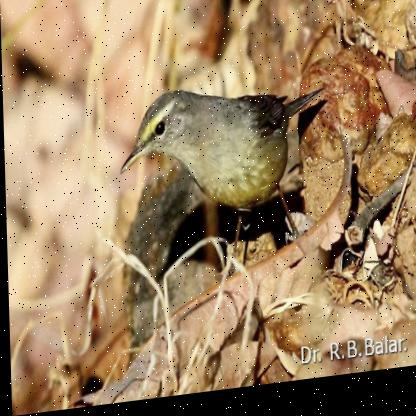Burung: (115, 78, 328, 285)
